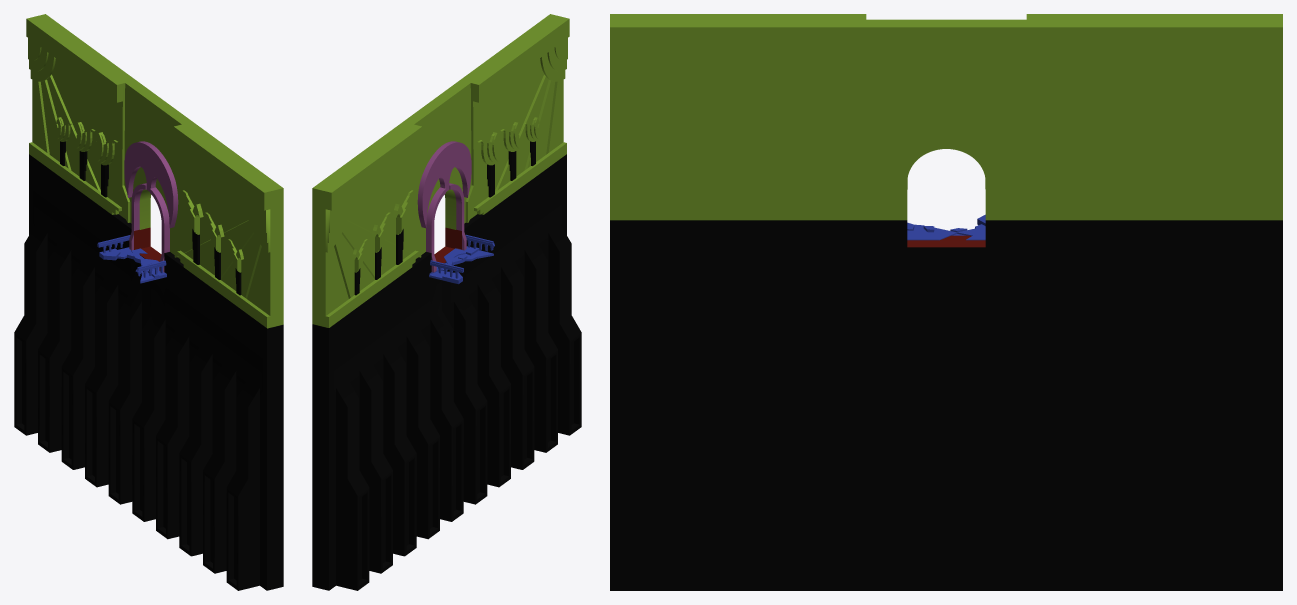
The model's file is SM_Entrance_wall.fbx.
The picture shows the model from 3 angles, left to right: view 1: azimuth 30°, elevation 25°; view 2: azimuth 150°, elevation 25°; view 3: azimuth 270°, elevation 25°; orthographic projection. The views are drawn at different scales.
Visible parts, largest first — view 1: Box032, Plane003, Cylinder007, rammpe004; view 2: Box032, Plane003, Cylinder007, rammpe004; view 3: Box032, Plane003, rammpe004.
Boxes of the visible parts, x1,y1,x2,y2 form: Box032: (14,154,283,590); Plane003: (26,14,283,328); Cylinder007: (124,141,178,272); rammpe004: (97,235,166,283); Box032: (312,154,581,590); Plane003: (312,14,569,327); Cylinder007: (417,141,471,272); rammpe004: (429,234,494,284); Box032: (610,220,1282,590); Plane003: (610,14,1282,220); rammpe004: (907,214,985,240).
Size of the model in its own units: 427 by 2044 by 2211.
